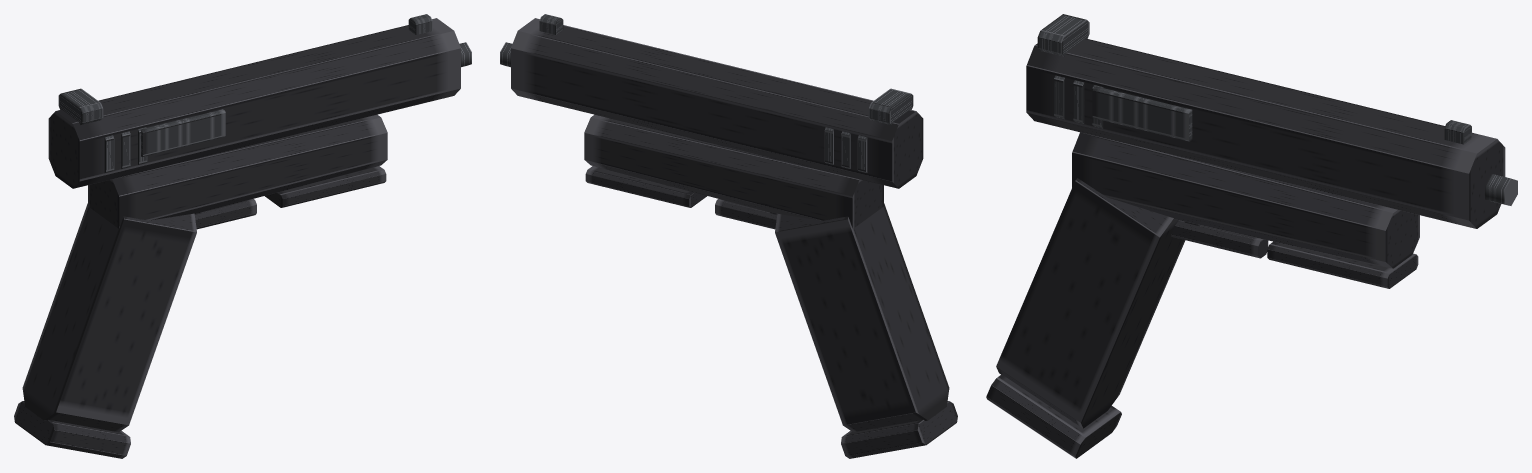
The model's file is Glock_1P.glb.
The picture shows the model from 3 angles, left to right: view 1: azimuth 30°, elevation 25°; view 2: azimuth 150°, elevation 25°; view 3: azimuth 330°, elevation 25°; orthographic projection. The views are drawn at different scales.
Parts seen in each view (by area): view 1: Glock_1P; view 2: Glock_1P; view 3: Glock_1P.
Part boxes in pixels (x1,y1,x2,y2): Glock_1P: (14, 14, 471, 458); Glock_1P: (500, 14, 957, 458); Glock_1P: (986, 14, 1517, 458).
Size of the model in its own units: 0.2104 by 0.1641 by 0.0305.
Materials: 1 (1 with a texture image).
